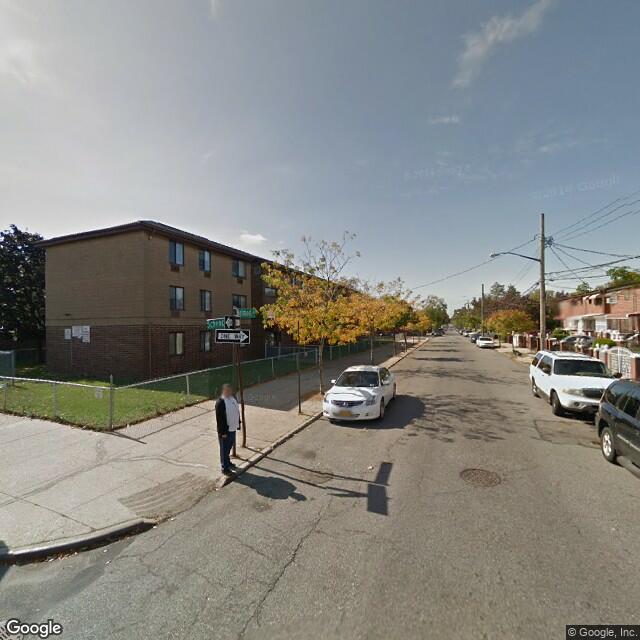litter: (150, 523, 157, 529), (365, 465, 375, 469)
